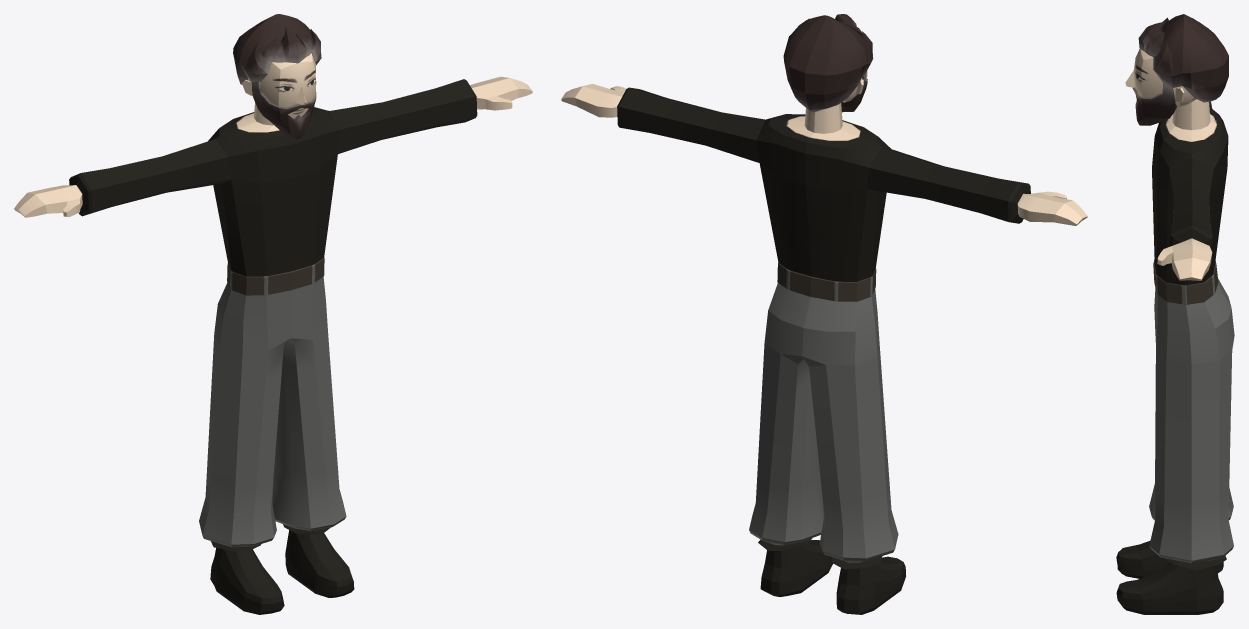
File: Pasterz.fbx
3 views of the same model, side by side, from view 1: azimuth 30°, elevation 25°; view 2: azimuth 150°, elevation 25°; view 3: azimuth 270°, elevation 25° (orthographic).
Parts seen in each view (by area): view 1: Pasterz_BaseModel; view 2: Pasterz_BaseModel; view 3: Pasterz_BaseModel.
Part boxes in pixels (bbox=[...]): Pasterz_BaseModel: bbox=[14, 14, 532, 614]; Pasterz_BaseModel: bbox=[561, 14, 1087, 614]; Pasterz_BaseModel: bbox=[1116, 14, 1234, 614].
Size of the model in its own units: 173 by 184 by 34.39.
2 materials, 2 textured.
